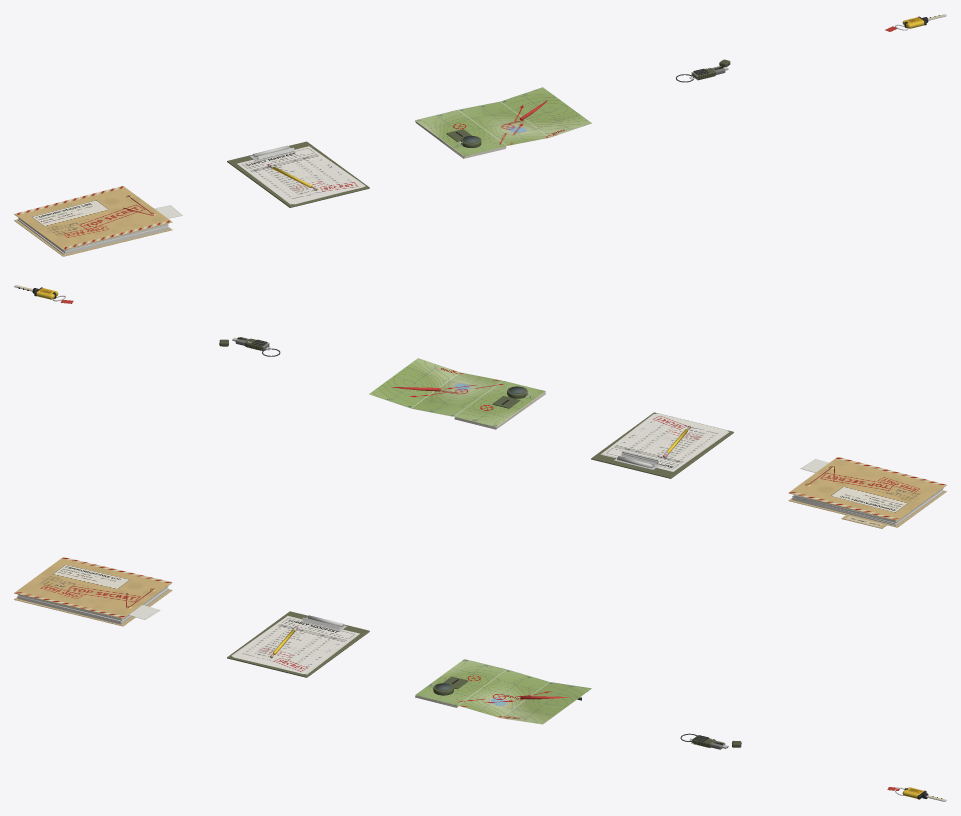
Rendered from items1.glb.
The picture shows the model from 3 angles, top to bottom: view 1: azimuth 30°, elevation 25°; view 2: azimuth 150°, elevation 25°; view 3: azimuth 330°, elevation 25°; orthographic projection.
Visible parts, largest first — view 1: i01_cover, i02_sheet, i03_pC, i03_pB, i03_pA, i02_board; view 2: i01_cover, i02_sheet, i03_pC, i03_pB, i03_pA, i02_board; view 3: i01_cover, i02_sheet, i03_pB, i03_pC, i03_pA, i02_board.
Boxes of the visible parts, left/top/right/bottom form: i01_cover: left=15, top=186, right=171, bottom=249; i02_sheet: left=238, top=146, right=364, bottom=204; i03_pC: left=500, top=87, right=591, bottom=137; i03_pB: left=458, top=101, right=548, bottom=145; i03_pA: left=415, top=110, right=506, bottom=156; i02_board: left=227, top=141, right=369, bottom=207; i01_cover: left=789, top=457, right=945, bottom=520; i02_sheet: left=602, top=413, right=728, bottom=470; i03_pC: left=369, top=358, right=460, bottom=408; i03_pB: left=411, top=372, right=502, bottom=416; i03_pA: left=454, top=381, right=545, bottom=427; i02_board: left=591, top=412, right=733, bottom=478; i01_cover: left=15, top=557, right=171, bottom=617; i02_sheet: left=232, top=616, right=358, bottom=673; i03_pB: left=458, top=669, right=548, bottom=717; i03_pC: left=501, top=682, right=591, bottom=724; i03_pA: left=415, top=659, right=506, bottom=705; i02_board: left=227, top=611, right=369, bottom=677.
Bounding box in the file's own units: 2.65 × 0.0276 × 0.32.
36 materials, 9 textured.
